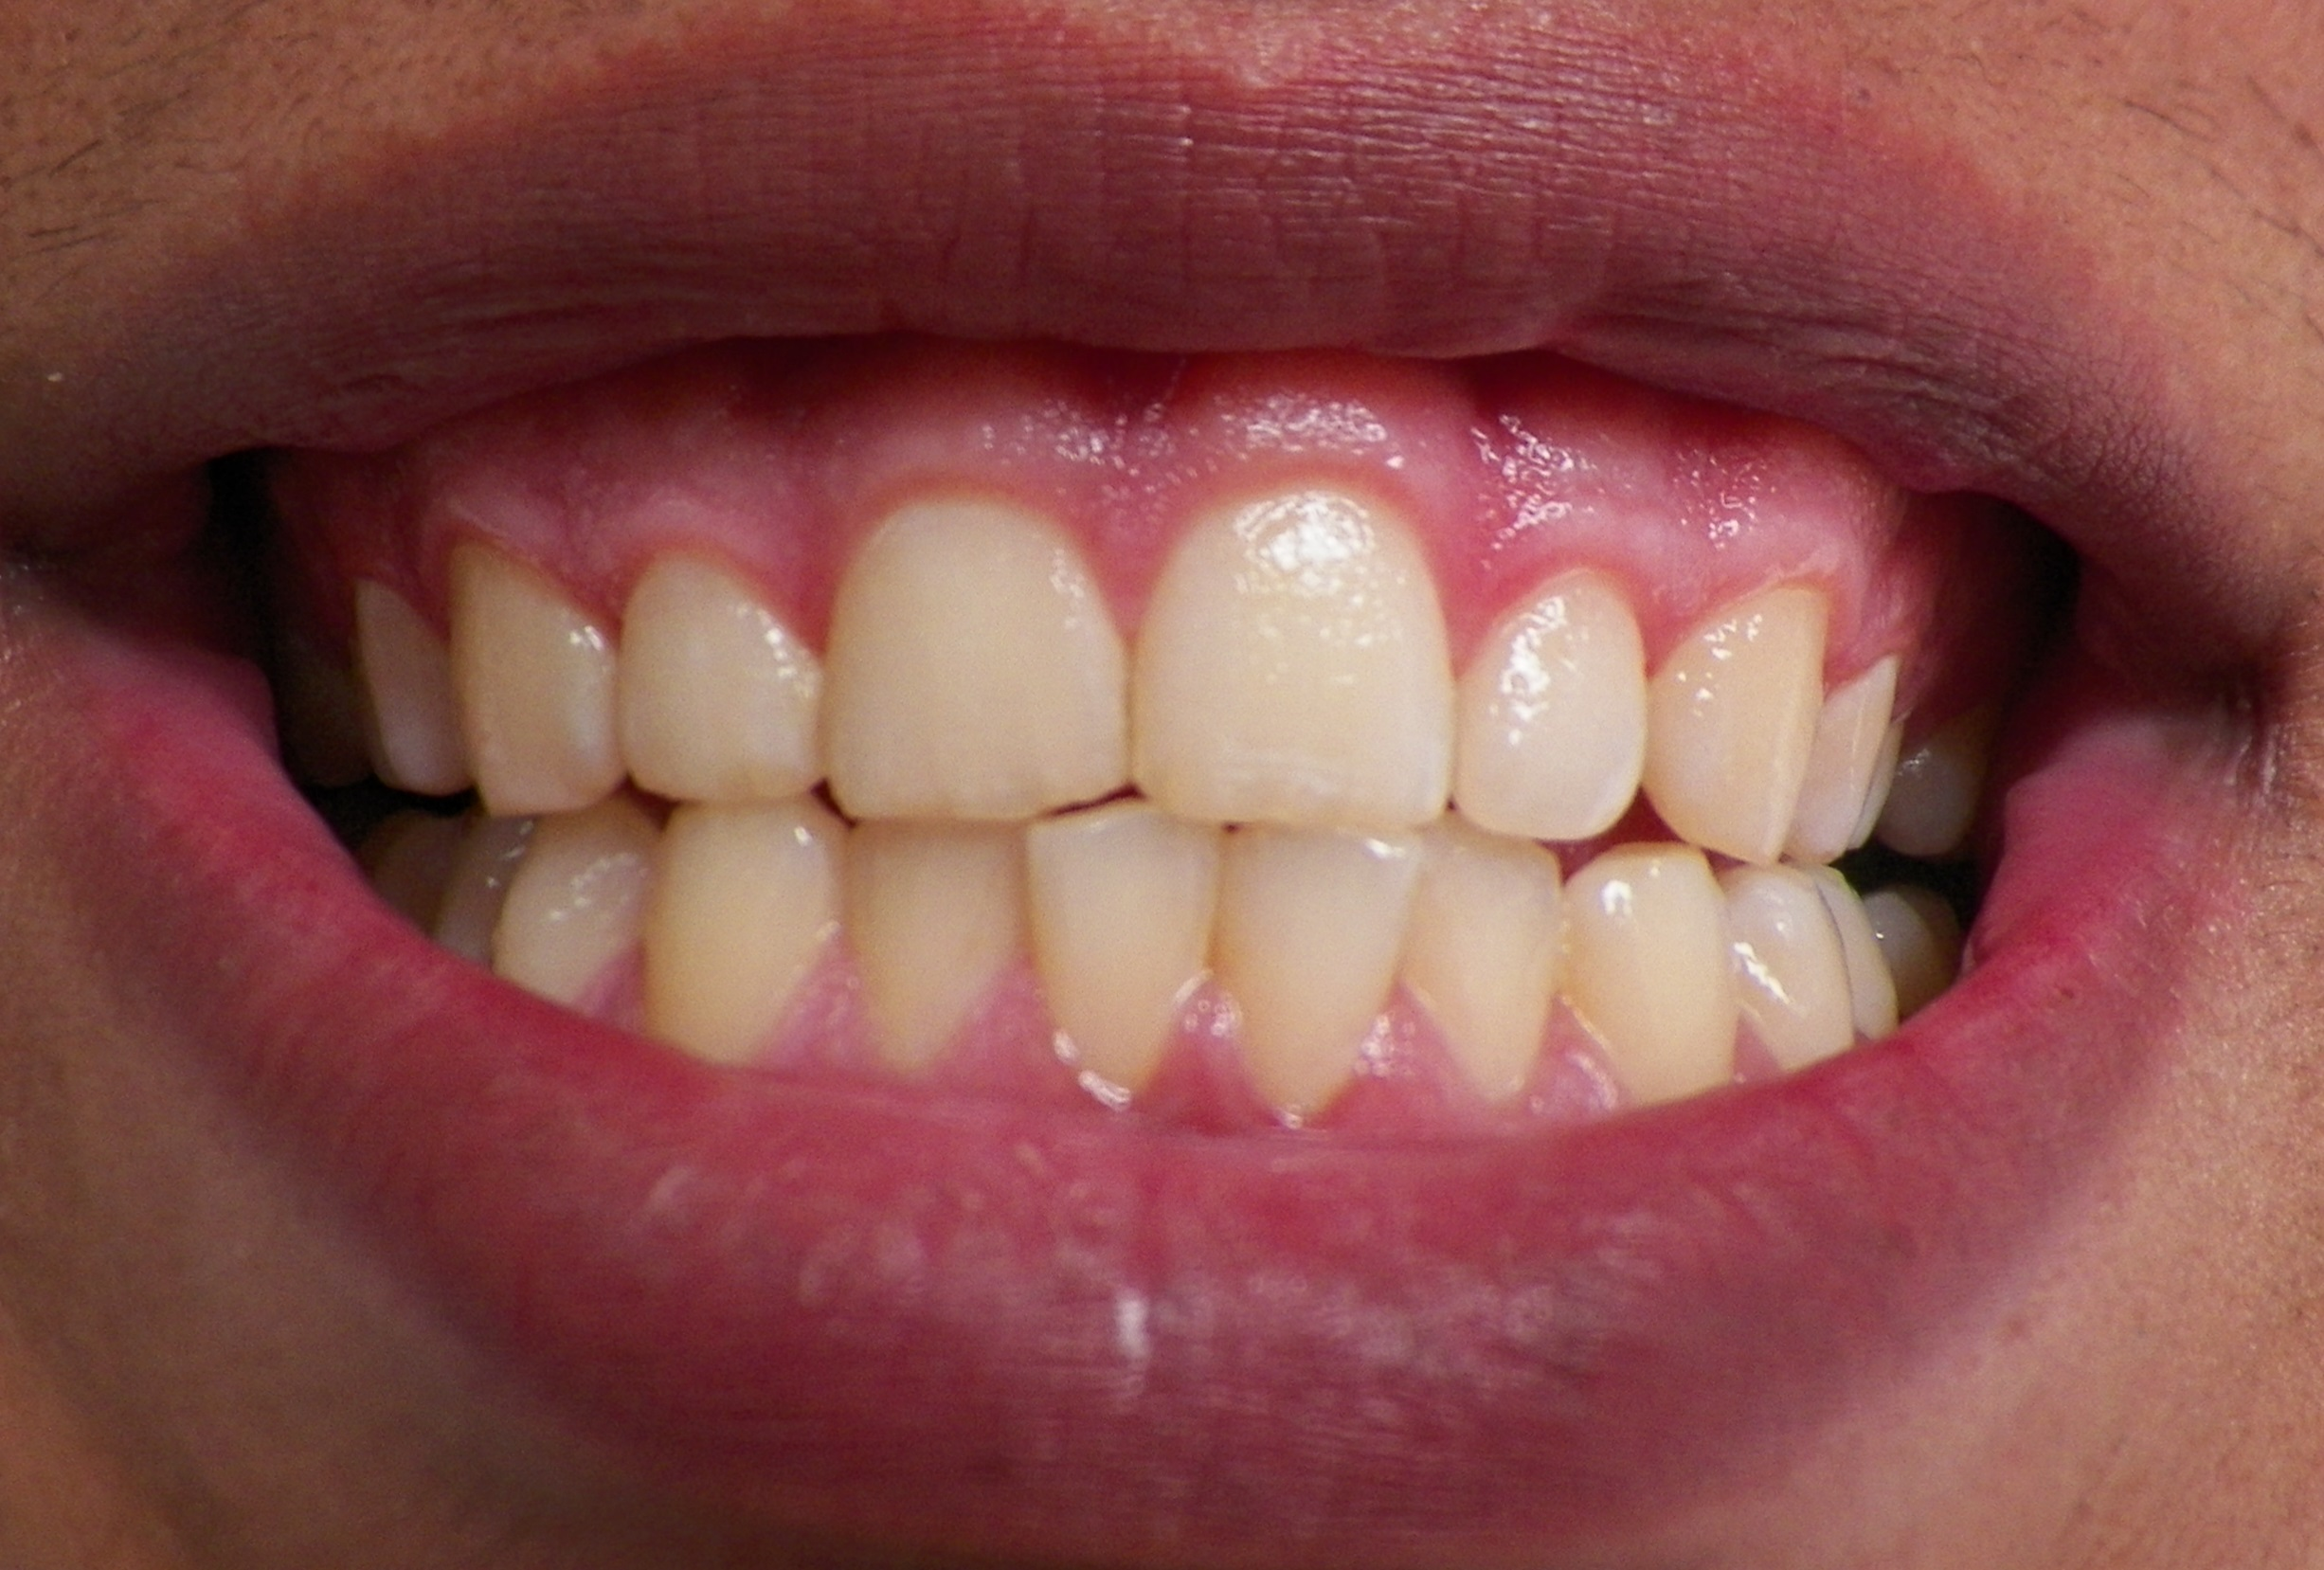boca: (238, 533, 2049, 1093)
